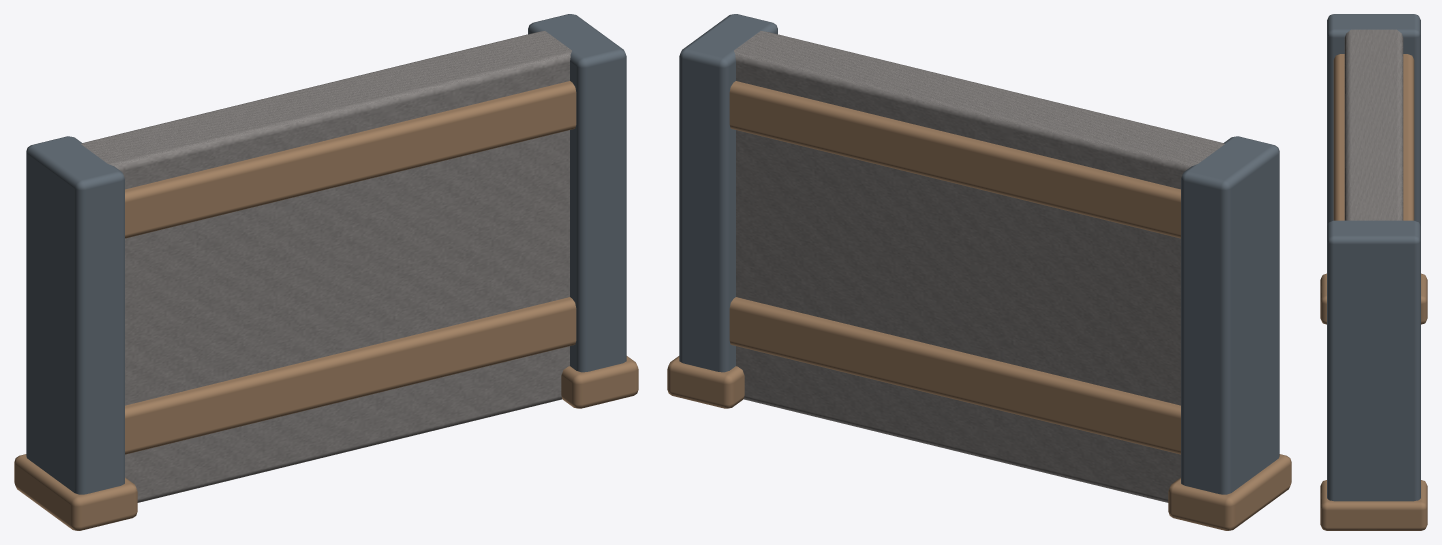
Rendered from arena-shooter-map-kit-half-wall-e9f5f9e8__23075.glb.
3 renders of one model, left to right at view 1: azimuth 30°, elevation 25°; view 2: azimuth 150°, elevation 25°; view 3: azimuth 270°, elevation 25°, orthographic. The views are drawn at different scales.
Parts seen in each view (by area): view 1: half-wall; view 2: half-wall; view 3: half-wall.
Boxes of the visible parts, x1,y1,x2,y2 form: half-wall: [14, 14, 638, 530]; half-wall: [667, 14, 1291, 530]; half-wall: [1320, 14, 1427, 530].
Size of the model in its own units: 2.06 by 1.2 by 0.3998.
Materials: 3 (1 with a texture image).
